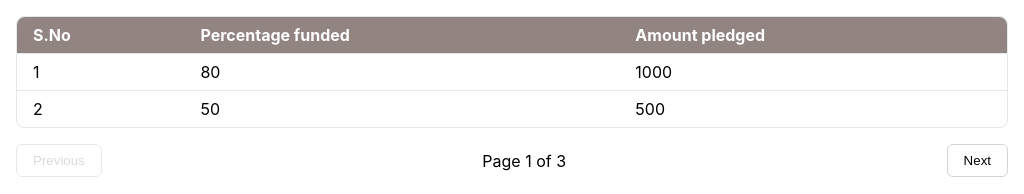
Test: Table Component › correctly paginates data
This screenshot has width=1024, height=194.
Check: the column heading "S.No" is shown, box x1=17 y1=17 x2=184 y2=54
Check: the text "1" is shown, box x1=17 y1=54 x2=184 y2=90
Click the button "Next" at x=977, y=160, box x1=947 y1=144 x2=1008 y2=177
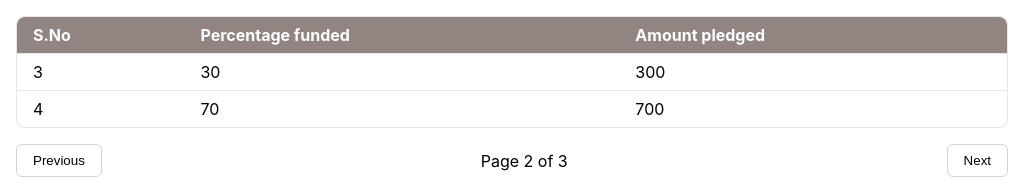
Check: the column heading "S.No" is shown, box x1=17 y1=17 x2=184 y2=54
Check: the text "3" is shown, box x1=17 y1=54 x2=184 y2=90
Check: the text "4" is shown, box x1=17 y1=90 x2=184 y2=127
